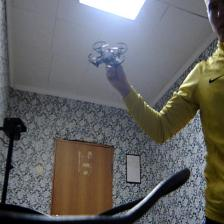drone: (87, 33, 129, 70)
